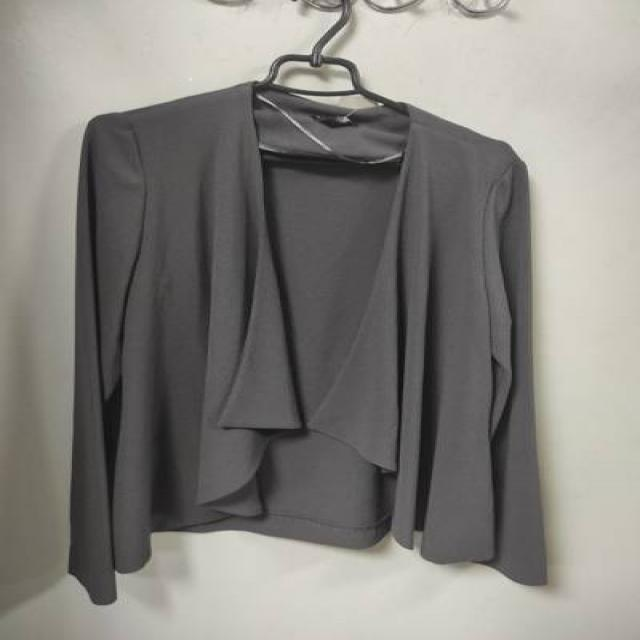Clothes -Biodegradable-: (66, 83, 548, 603)
